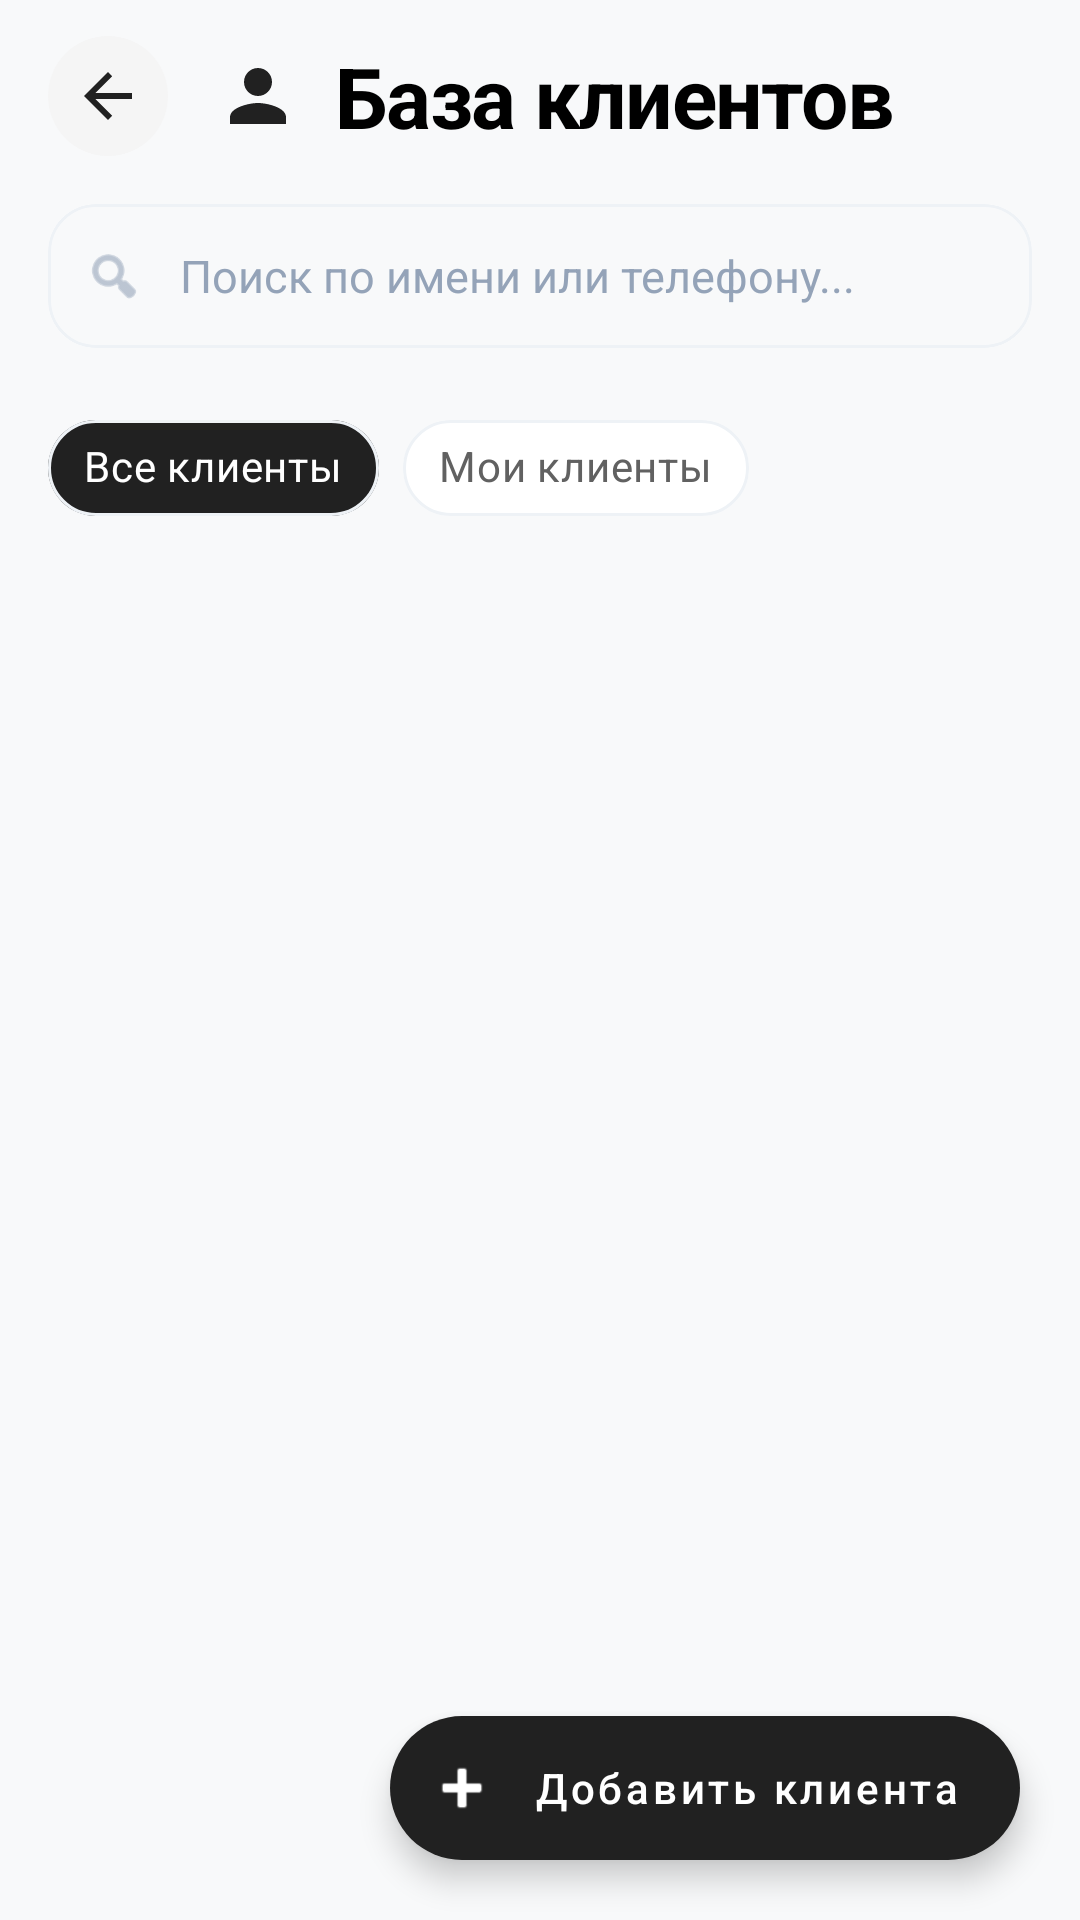

Named icons in this screenshot (1080px x 1920px) and their centers, (x=x, y=y):
person: (x=258, y=96)
search: (x=114, y=276)
